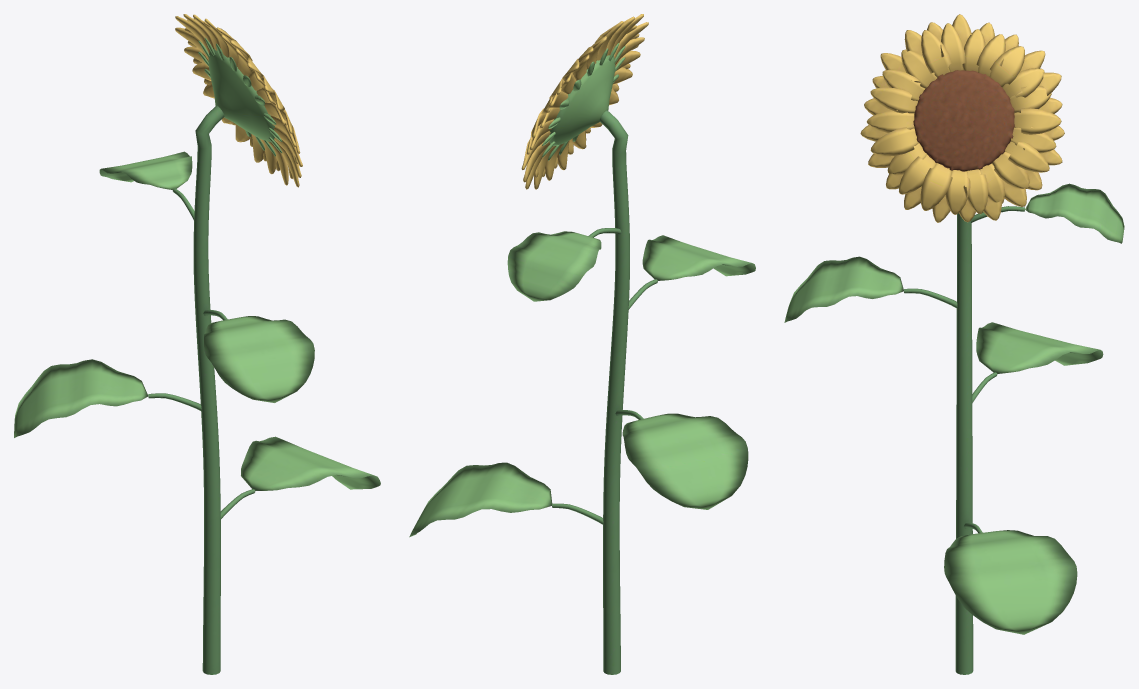
The model's file is sunflower.glb.
The picture shows the model from 3 angles, left to right: view 1: azimuth 30°, elevation 25°; view 2: azimuth 150°, elevation 25°; view 3: azimuth 270°, elevation 25°; orthographic projection.
Parts seen in each view (by area): view 1: sunflower_body; view 2: sunflower_body; view 3: sunflower_body.
Boxes of the visible parts, <box> form: sunflower_body: <box>14,14,380,674</box>; sunflower_body: <box>409,14,755,674</box>; sunflower_body: <box>784,14,1124,674</box>.
Bounding box in the file's own units: 0.9621 × 1.78 × 0.842.
Materials: 1 (1 with a texture image).
